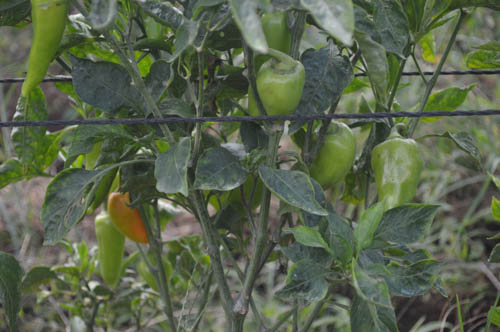ChiliPepper: (22, 5, 72, 96), (372, 141, 424, 208), (310, 125, 357, 193), (259, 66, 306, 119)
